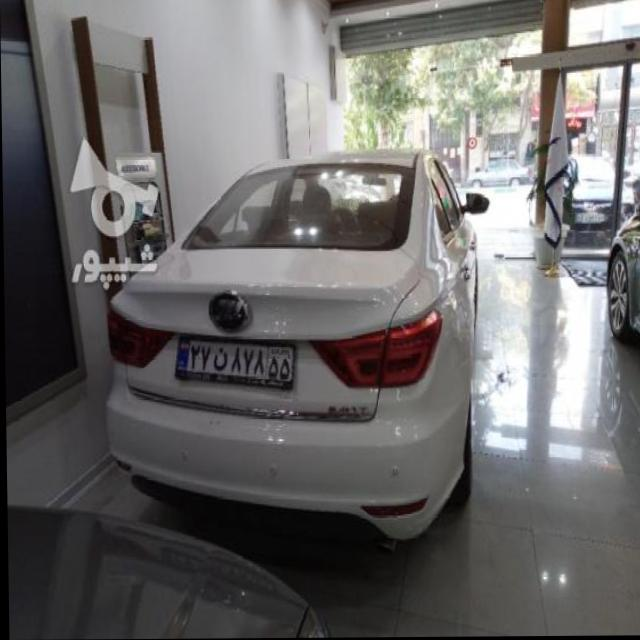licence: (168, 337, 293, 385)
